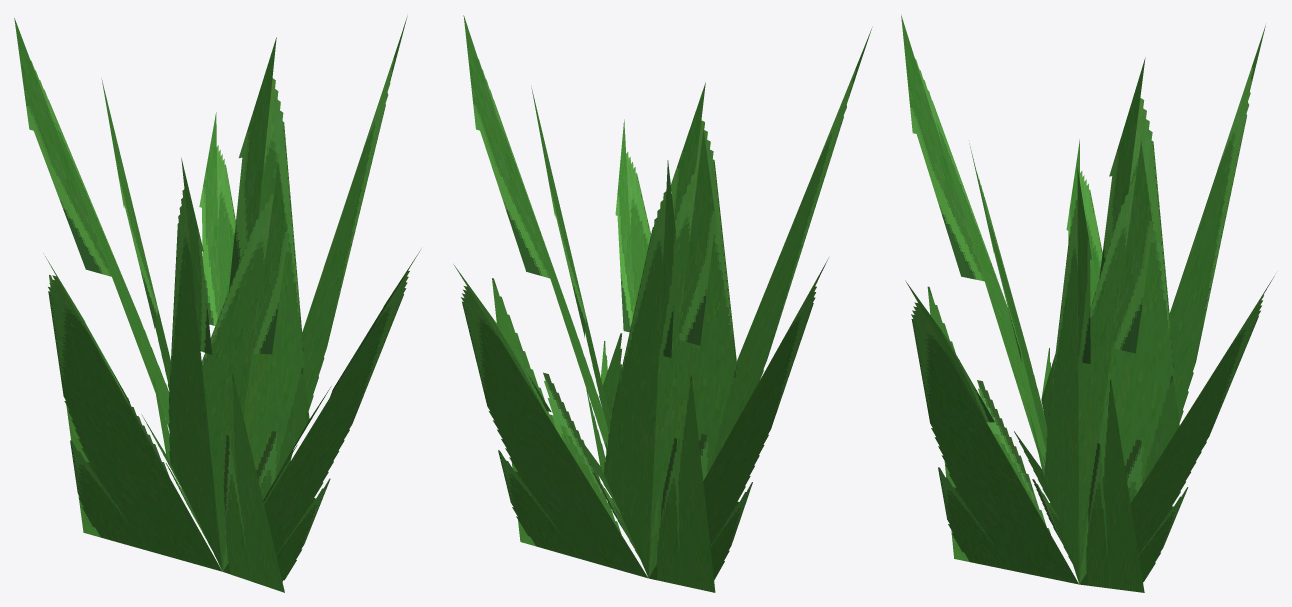
File: grass.obj
The picture shows the model from 3 angles, left to right: view 1: azimuth 30°, elevation 25°; view 2: azimuth 150°, elevation 25°; view 3: azimuth 270°, elevation 25°; orthographic projection. The views are drawn at different scales.
Size of the model in its own units: 71.8 by 96.71 by 65.13.
Materials: 1 (1 with a texture image).
